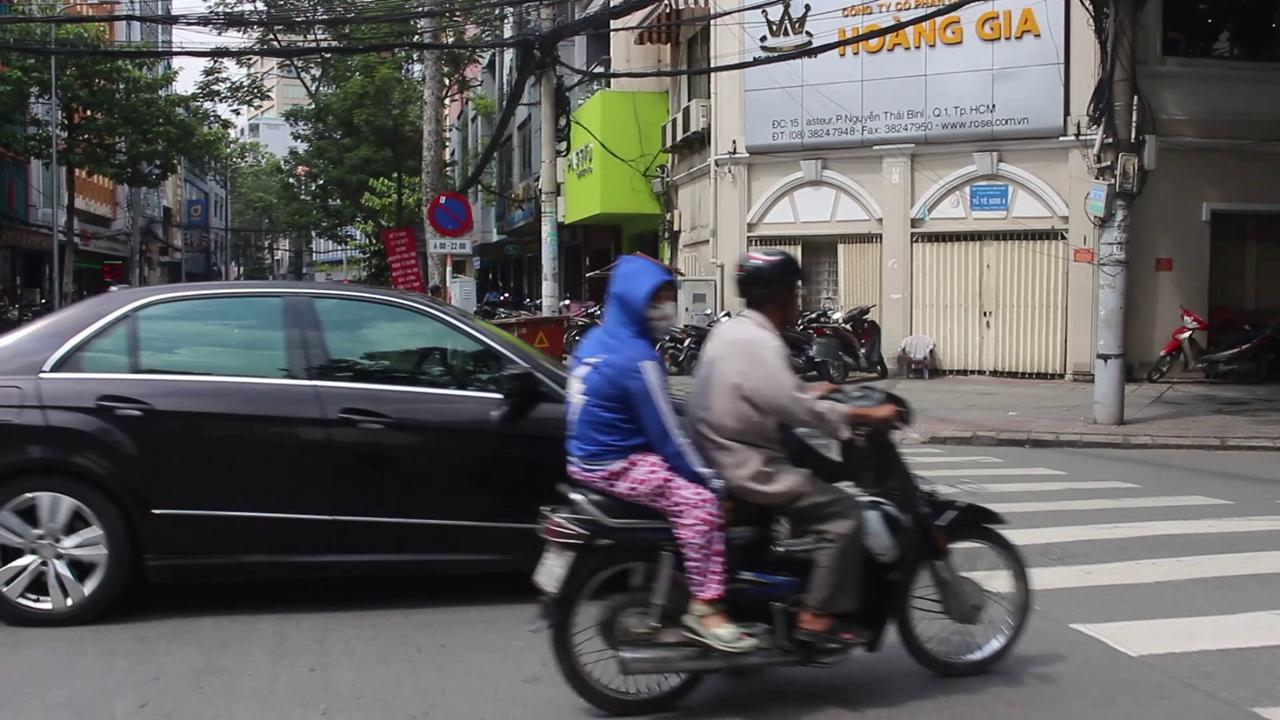P.102: (421, 185, 477, 243)
